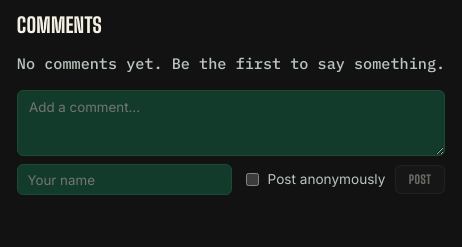
Test case: CommentsSection › posts a named comment and appends it to the list
Check: the list item "No comments yet. Be the first to say something." is shown, box x1=17 y1=52 x2=445 y2=74
Type "Great!" into the text box labelled "comment" at (231, 123), box x1=17 y1=90 x2=445 y2=156
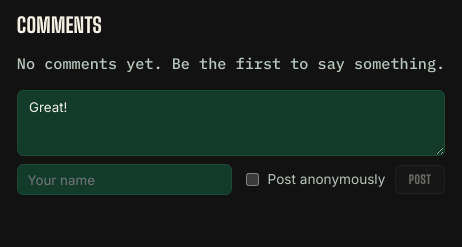
Type "Bob" into the field labelled "Your name" at (125, 180), box x1=17 y1=164 x2=232 y2=195
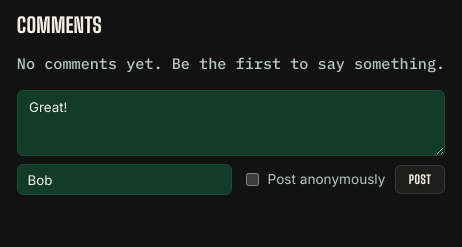
Click the button "Post" at (420, 180), box x1=395 y1=165 x2=445 y2=194
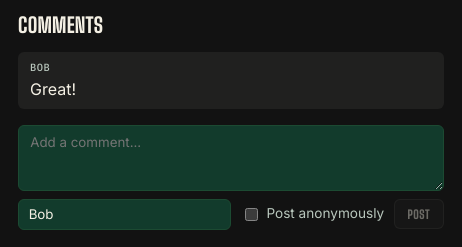
Check: the text "Great!" is shown, box x1=30 y1=79 x2=76 y2=99
